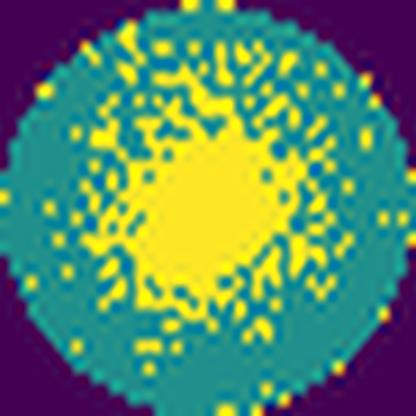Center: (90, 66, 326, 315)
